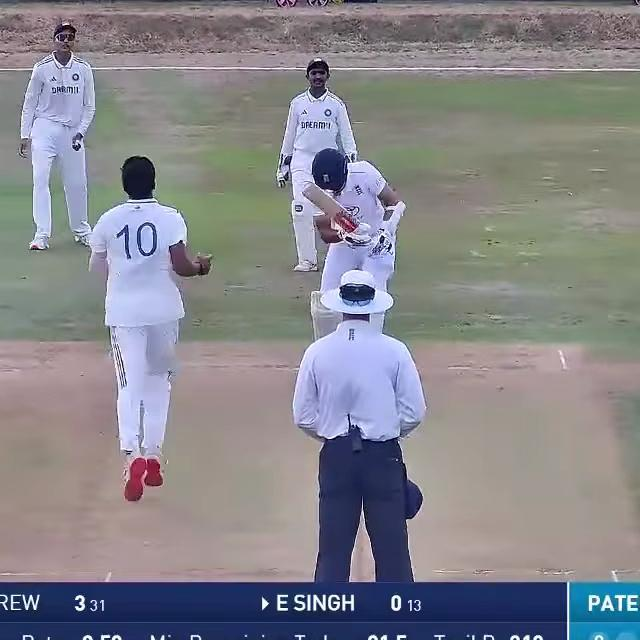umpire: (277, 268, 442, 584)
